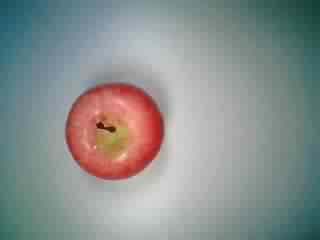apple: (63, 80, 167, 181)
